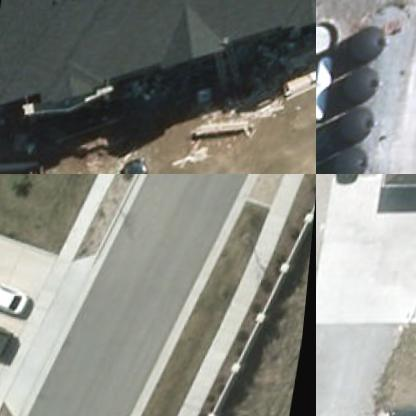car: (0, 273, 38, 323), (117, 151, 169, 173), (328, 174, 369, 190)
pickup: (0, 305, 20, 363)
